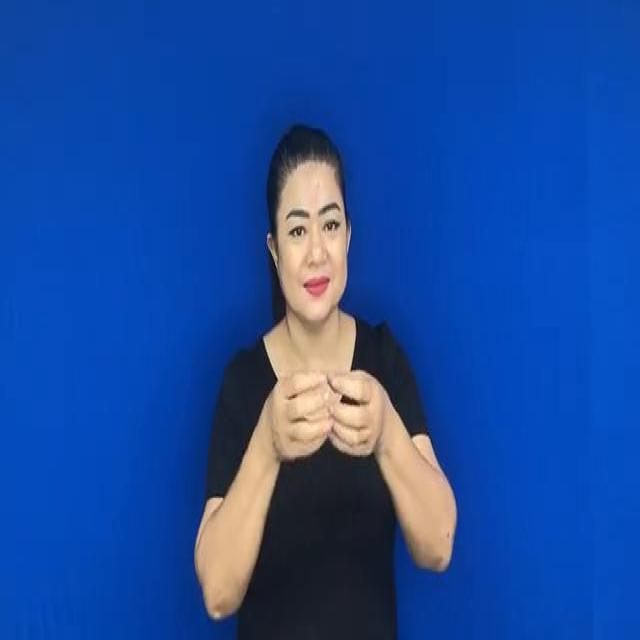egg: (249, 342, 393, 475)
